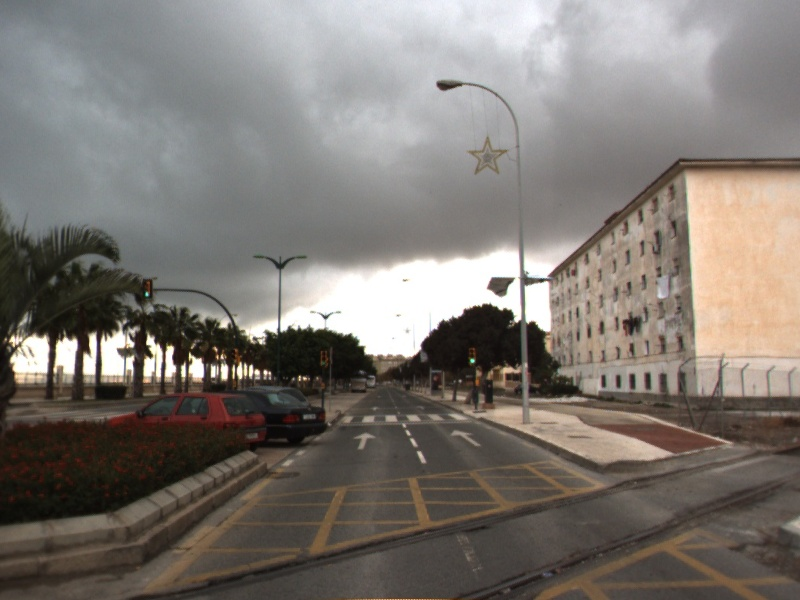STRAIGHT: (448, 427, 484, 448), (351, 430, 379, 452)
